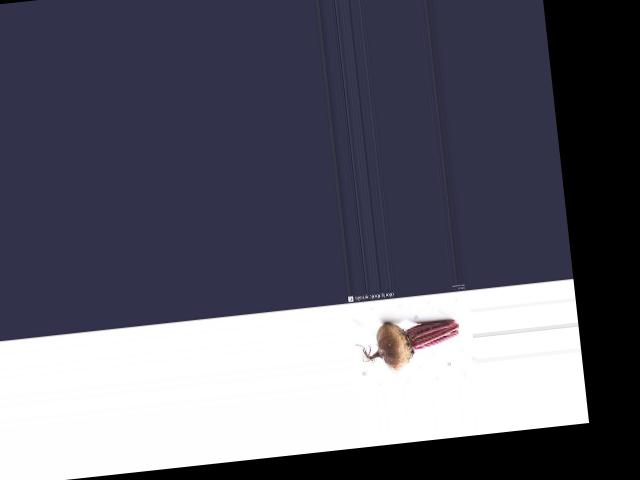beet: (354, 315, 463, 373)
